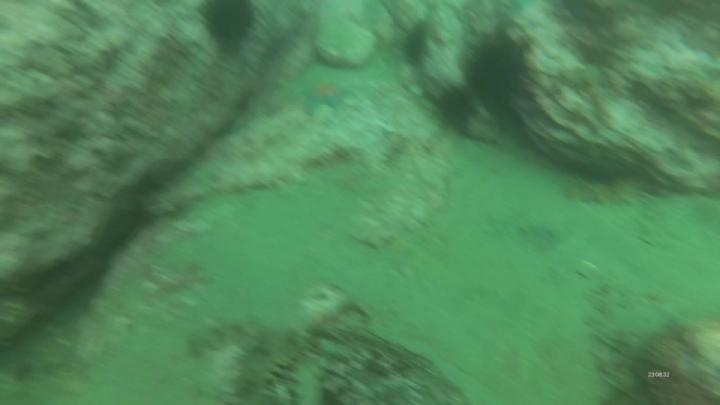echinus: (462, 27, 533, 96), (198, 1, 265, 54), (436, 82, 480, 135)
starfish: (303, 78, 353, 115)
